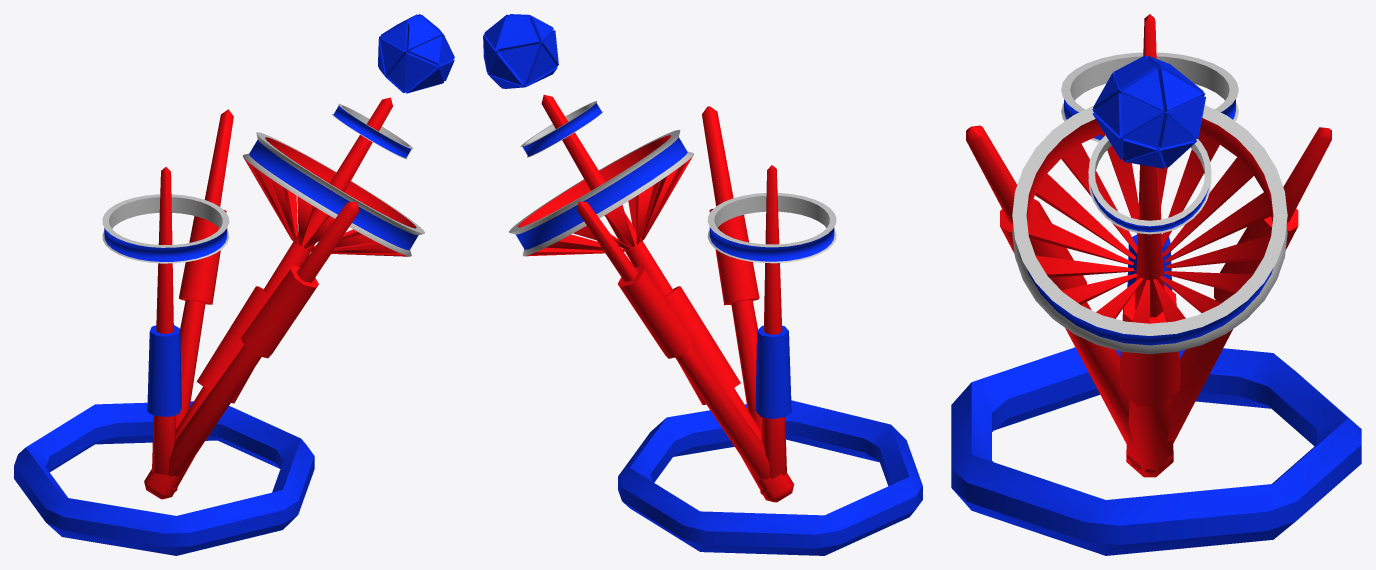
Rendered from projector.obj.
The picture shows the model from 3 angles, left to right: view 1: azimuth 30°, elevation 25°; view 2: azimuth 150°, elevation 25°; view 3: azimuth 270°, elevation 25°; orthographic projection. The views are drawn at different scales.
Parts seen in each view (by area): view 1: Cylinder.010_Cylinder.014, Cone.008_Cone.009, Cylinder.009_Cylinder.013, Cone.006_Cone.010, Cylinder.008_Cylinder.012, Icosphere.002_Icosphere.002, Cylinder.011_Cylinder.015; view 2: Cylinder.010_Cylinder.014, Cone.008_Cone.009, Cylinder.009_Cylinder.013, Cone.006_Cone.010, Cylinder.008_Cylinder.012, Icosphere.002_Icosphere.002, Cylinder.011_Cylinder.015; view 3: Cylinder.010_Cylinder.014, Cylinder.009_Cylinder.013, Cone.008_Cone.009, Icosphere.002_Icosphere.002, Cylinder.008_Cylinder.012, Cylinder.011_Cylinder.015, Cone.006_Cone.010.
Part boxes in pixels (x1=…): Cylinder.010_Cylinder.014: x1=14, y1=401, x2=314, y2=555; Cone.008_Cone.009: x1=144, y1=97, x2=392, y2=499; Cylinder.009_Cylinder.013: x1=243, y1=132, x2=425, y2=256; Cone.006_Cone.010: x1=147, y1=167, x2=181, y2=494; Cylinder.008_Cylinder.012: x1=102, y1=194, x2=229, y2=263; Icosphere.002_Icosphere.002: x1=378, y1=14, x2=454, y2=93; Cylinder.011_Cylinder.015: x1=332, y1=103, x2=413, y2=159; Cylinder.010_Cylinder.014: x1=618, y1=400, x2=922, y2=555; Cone.008_Cone.009: x1=541, y1=94, x2=794, y2=502; Cylinder.009_Cylinder.013: x1=509, y1=130, x2=693, y2=256; Cone.006_Cone.010: x1=755, y1=165, x2=791, y2=496; Cylinder.008_Cylinder.012: x1=707, y1=193, x2=836, y2=263; Icosphere.002_Icosphere.002: x1=483, y1=14, x2=558, y2=88; Cylinder.011_Cylinder.015: x1=520, y1=101, x2=603, y2=157; Cylinder.010_Cylinder.014: x1=951, y1=347, x2=1361, y2=555; Cylinder.009_Cylinder.013: x1=1012, y1=105, x2=1287, y2=353; Cone.008_Cone.009: x1=966, y1=125, x2=1331, y2=477; Icosphere.002_Icosphere.002: x1=1092, y1=55, x2=1205, y2=168; Cylinder.008_Cylinder.012: x1=1061, y1=52, x2=1238, y2=142; Cylinder.011_Cylinder.015: x1=1088, y1=135, x2=1211, y2=234; Cone.006_Cone.010: x1=1127, y1=14, x2=1172, y2=474.
Size of the model in its own units: 11.51 by 11.22 by 7.12.
